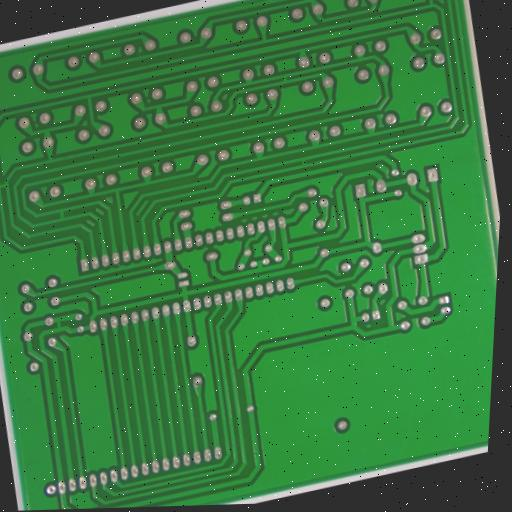short_circuit: (52, 316, 69, 335), (55, 205, 71, 224), (279, 70, 292, 87), (297, 157, 311, 170), (0, 181, 12, 193)
